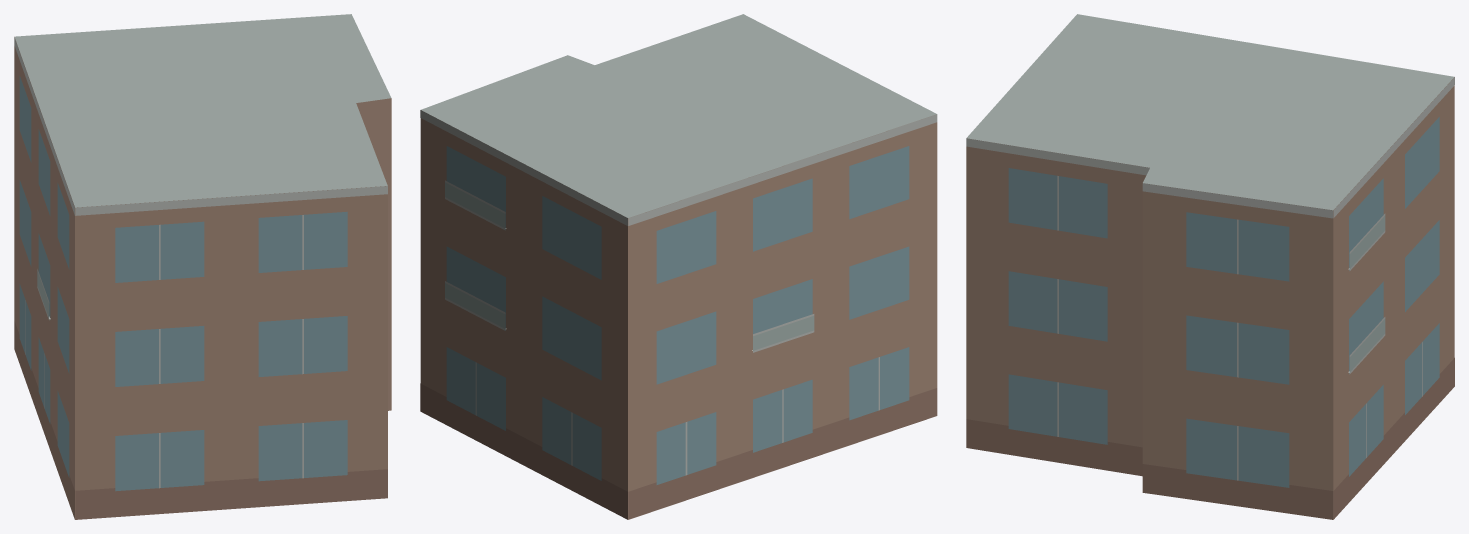
The model's file is survey-upis-32957221.glb.
3 views of the same model, side by side, from view 1: azimuth 30°, elevation 25°; view 2: azimuth 150°, elevation 25°; view 3: azimuth 270°, elevation 25° (orthographic). The views are drawn at different scales.
Visible parts, largest first — view 1: survey-upis-32957221.tmp; view 2: survey-upis-32957221.tmp; view 3: survey-upis-32957221.tmp.
Part boxes in pixels (x1,y1,x2,y2): survey-upis-32957221.tmp: (14,14,391,519); survey-upis-32957221.tmp: (420,14,937,519); survey-upis-32957221.tmp: (966,14,1454,519).
Size of the model in its own units: 12.45 by 9.15 by 13.1.
